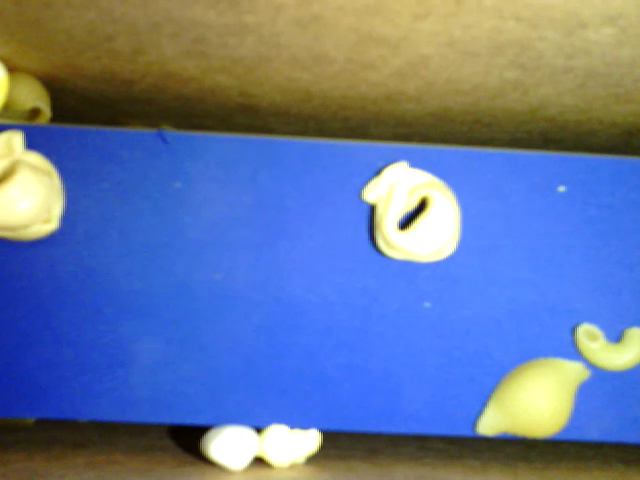elbow: (574, 320, 639, 370)
shell: (477, 355, 592, 440), (2, 72, 53, 130)
tortellini: (363, 158, 463, 266), (2, 130, 64, 243)
